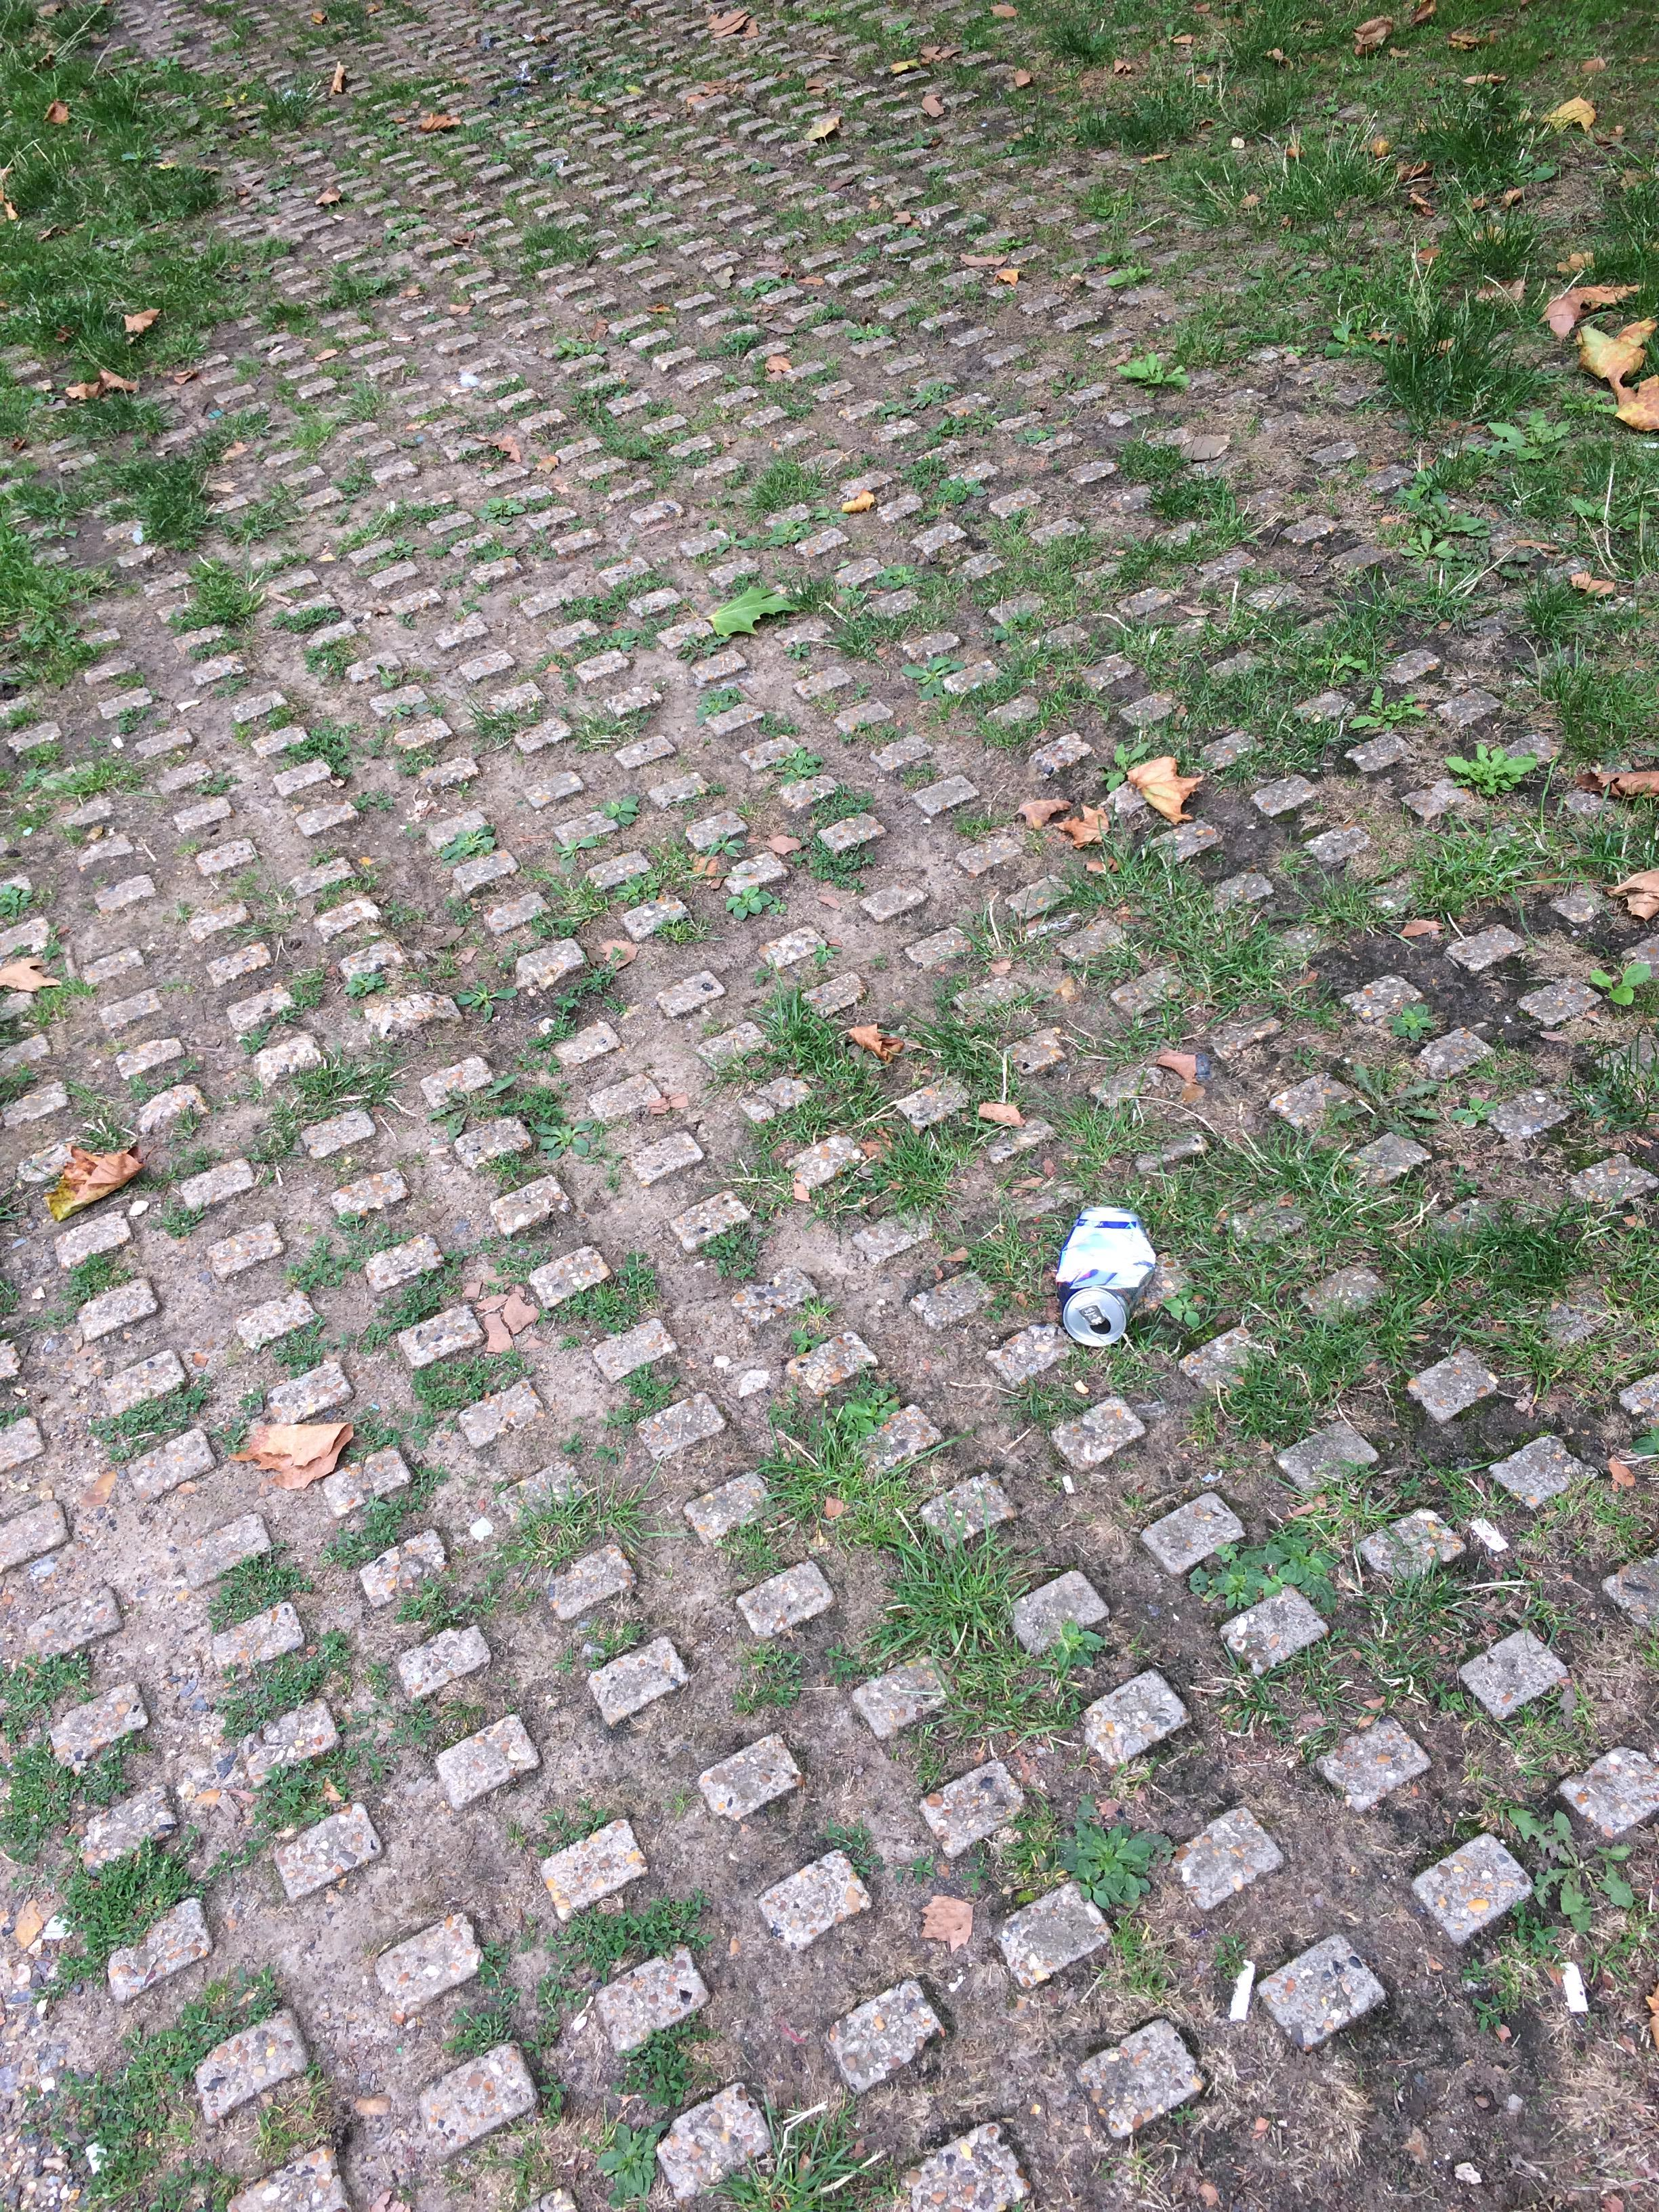Trash: (1046, 1186, 1154, 1350)
